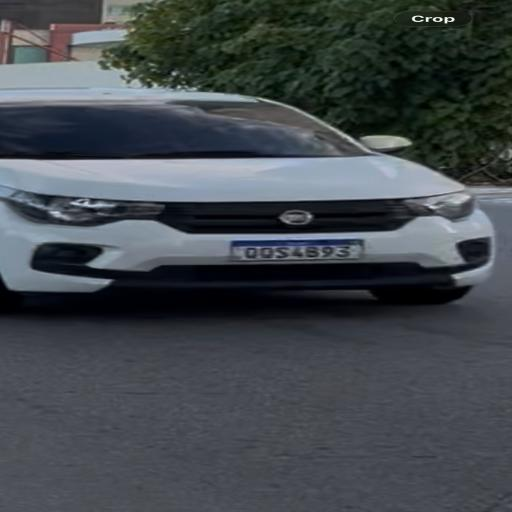detec-o-placas: (212, 227, 384, 278)
